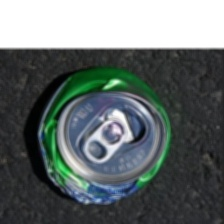can: (31, 63, 173, 207)
